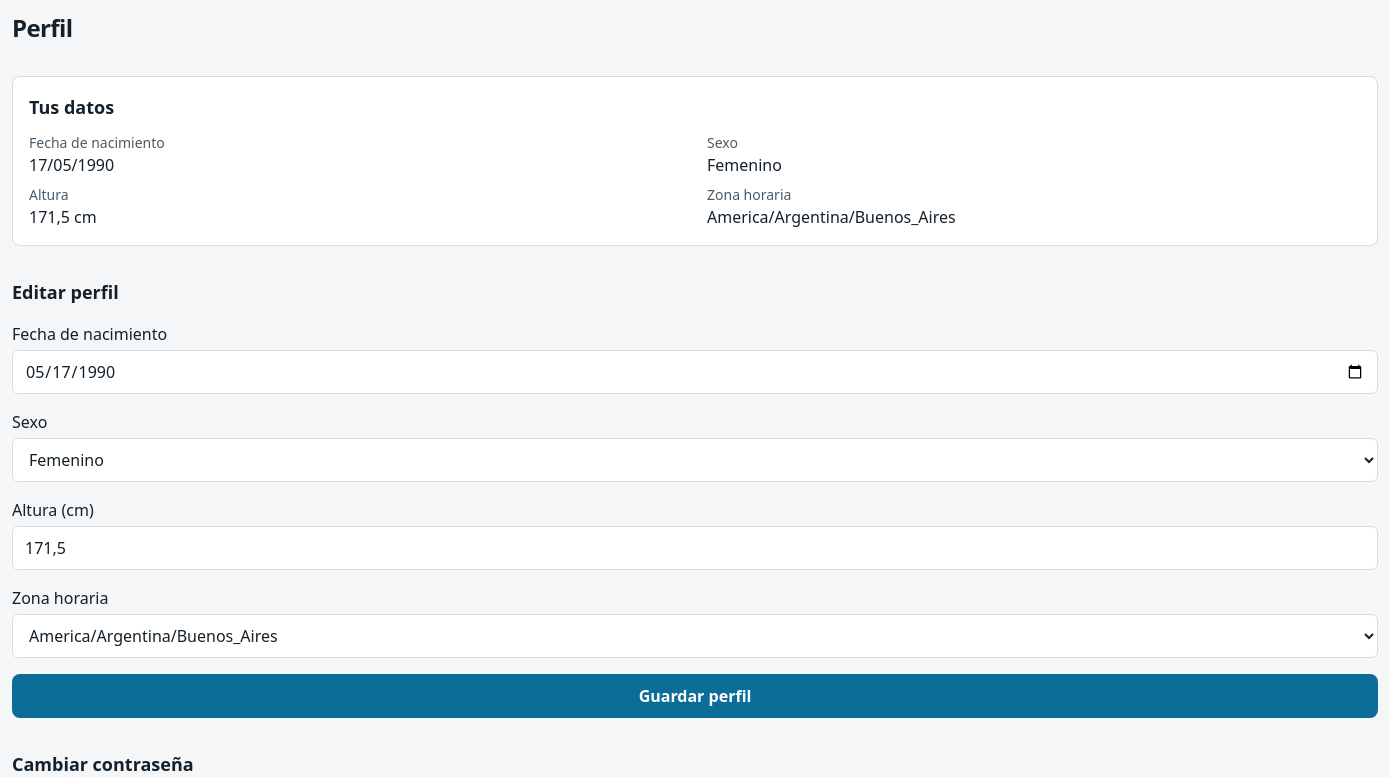
ProfilePage: formulario › FR-014: una altura fuera de rango muestra un error comprensible y no guarda
Replace the text in the field labelled "Altura (cm)" with "30" at (695, 548), box [12,526,1378,570]
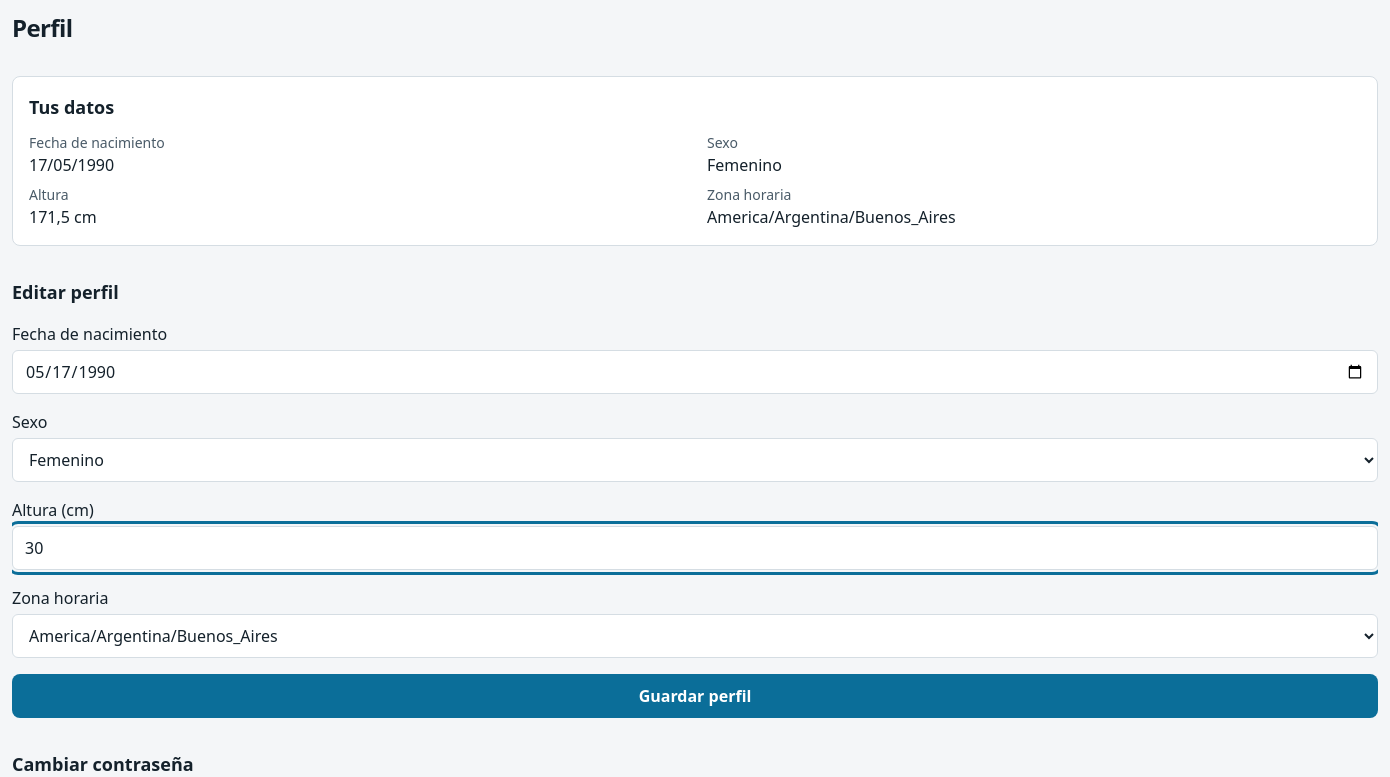
Click the button "Guardar perfil".
click(695, 696)  # box [12,674,1378,718]
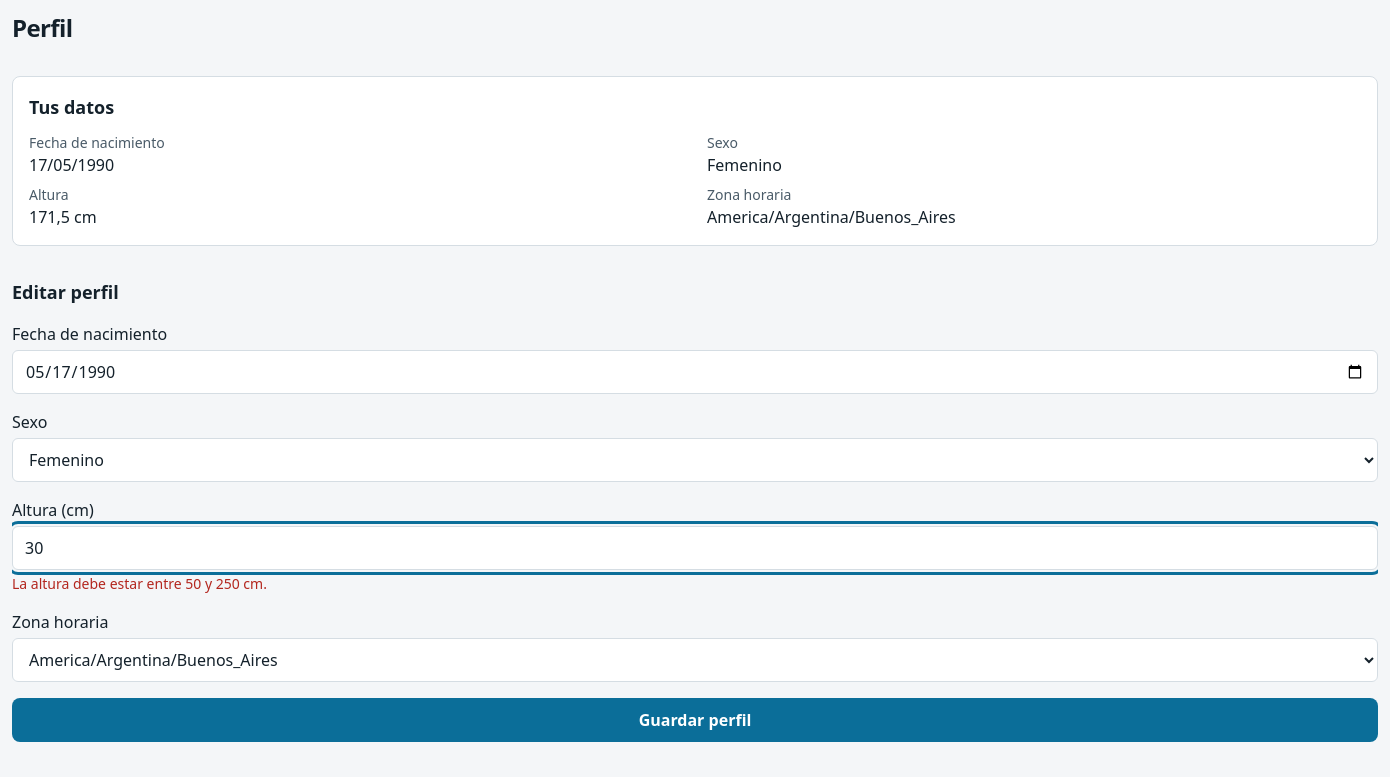
Result: the text "La altura debe estar entre 50 y 250 cm." is shown at [12,574,267,593]
